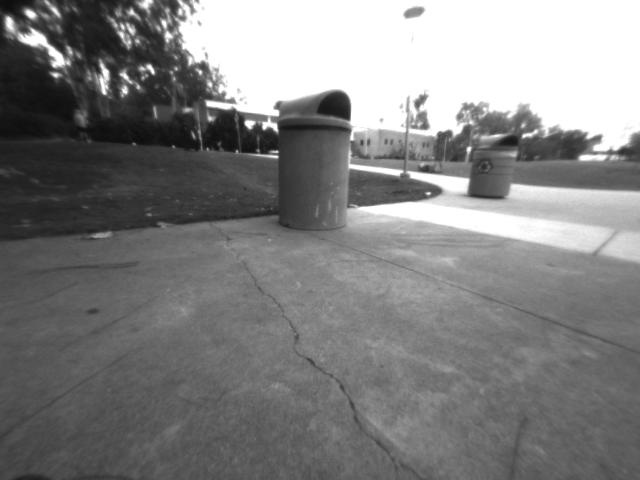trashcan: (275, 86, 352, 233)
